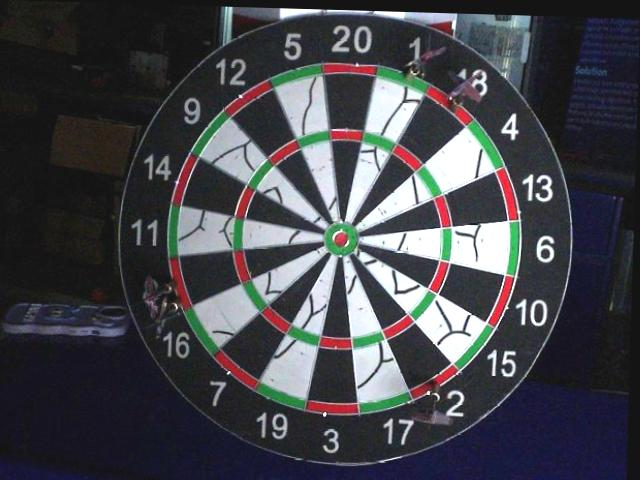double_1: (377, 68, 428, 94)
double_18: (425, 90, 469, 123)
double_2: (412, 367, 456, 399)
double_8: (171, 258, 192, 310)
